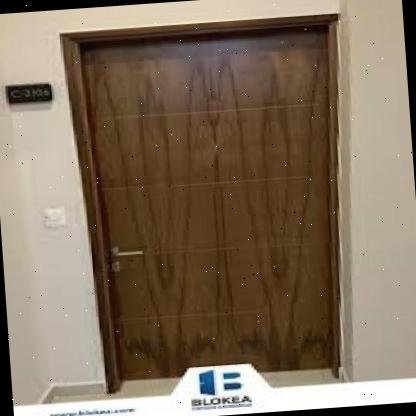door: (52, 5, 354, 395)
